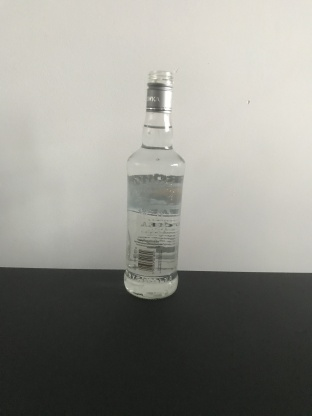nakretka: (144, 70, 174, 114)
